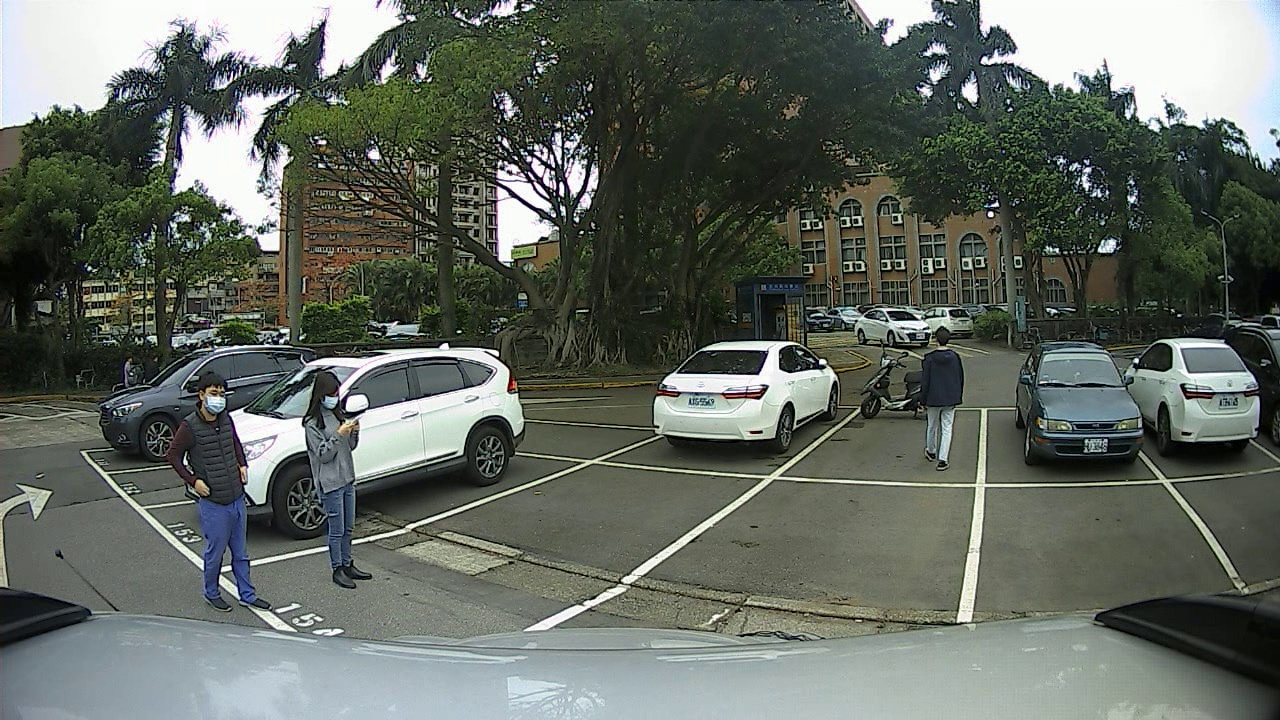car: (645, 325, 846, 460), (1008, 341, 1151, 467), (1126, 327, 1269, 453)
person: (166, 379, 272, 621), (284, 349, 390, 591), (906, 318, 966, 471)
